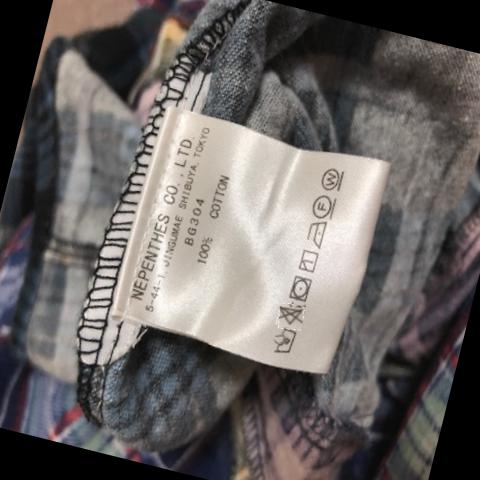DN_bleach: (277, 303, 305, 326)
dry_clean_any_solvent_except_trichloroethylene: (309, 191, 341, 222)
hand_wash: (273, 327, 297, 354)
iron_low: (305, 220, 331, 251)
tumble_dry_low: (287, 275, 315, 304)
wet_clean: (320, 163, 346, 192)
